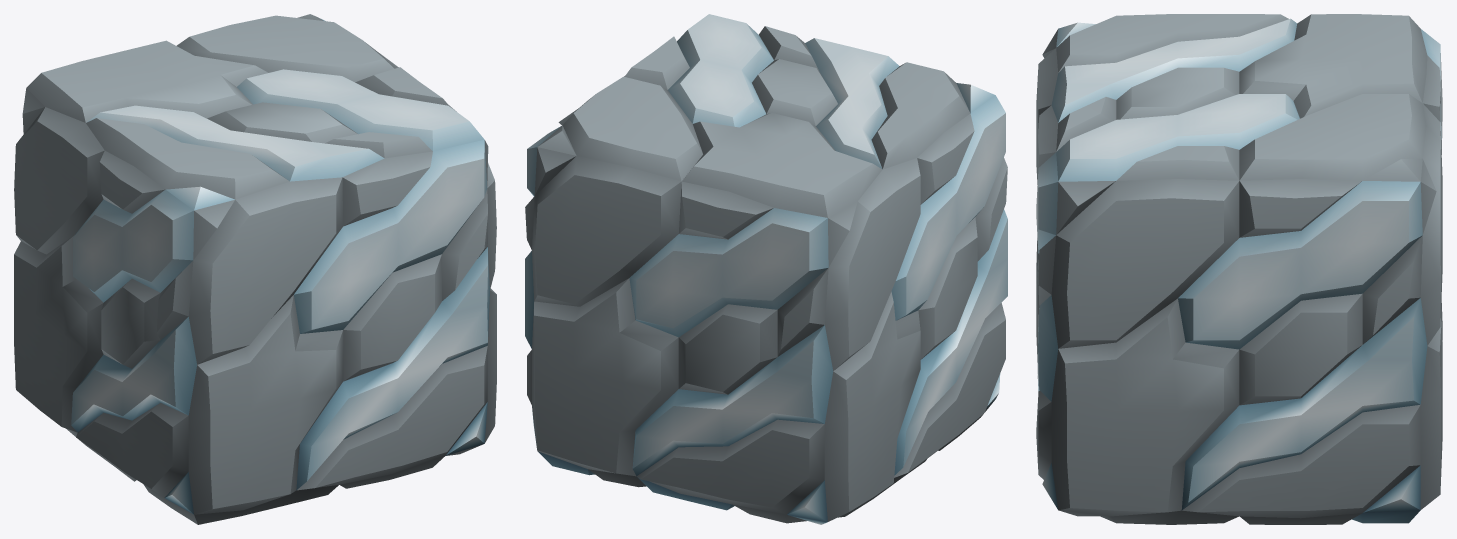
File: stone-with-silver.glb
3 views of the same model, side by side, from view 1: azimuth 30°, elevation 25°; view 2: azimuth 150°, elevation 25°; view 3: azimuth 270°, elevation 25° (orthographic). The views are drawn at different scales.
Parts seen in each view (by area): view 1: stone_with_silver; view 2: stone_with_silver; view 3: stone_with_silver.
Boxes of the visible parts, x1,y1,x2,y2 form: stone_with_silver: [14, 14, 496, 524]; stone_with_silver: [525, 14, 1007, 524]; stone_with_silver: [1036, 14, 1442, 524].
Size of the model in its own units: 2.02 by 2.02 by 2.02.
Materials: 1 (1 with a texture image).
